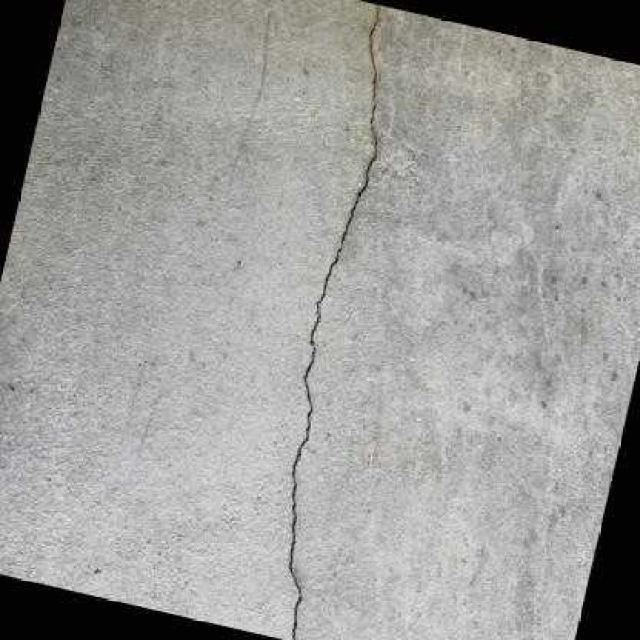D00: (288, 4, 381, 640)
